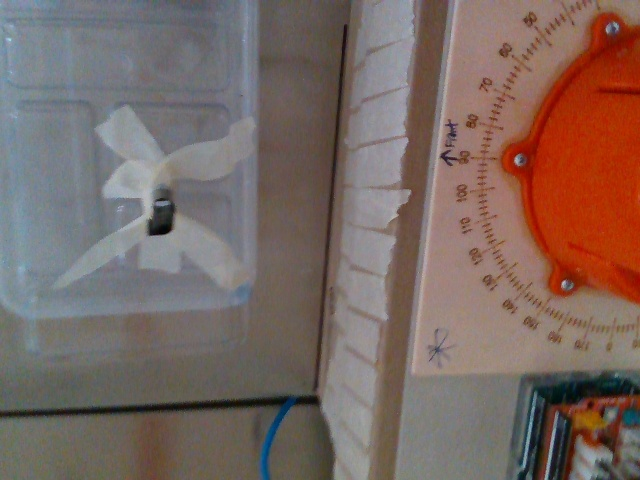test_strip: (143, 198, 175, 237)
